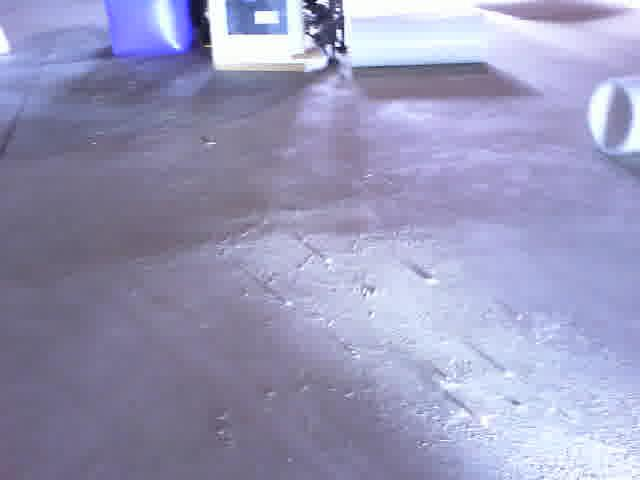coral: (348, 10, 490, 73), (583, 71, 640, 160)
